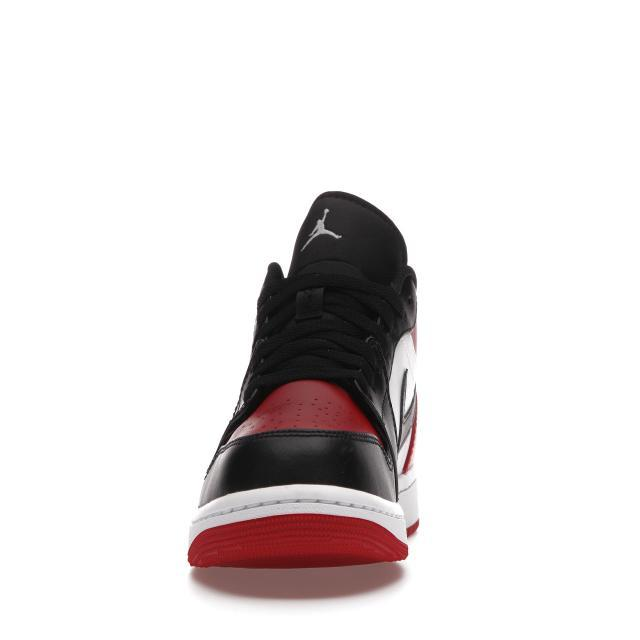J1_MateComp: (186, 189, 420, 569)
J1_ShoeLogo: (299, 206, 342, 252)
J1_StitchPattern: (233, 260, 417, 474), (186, 424, 411, 567), (204, 378, 395, 478), (245, 267, 399, 391), (186, 487, 409, 548), (378, 355, 425, 481), (214, 424, 386, 456), (391, 365, 418, 470)
